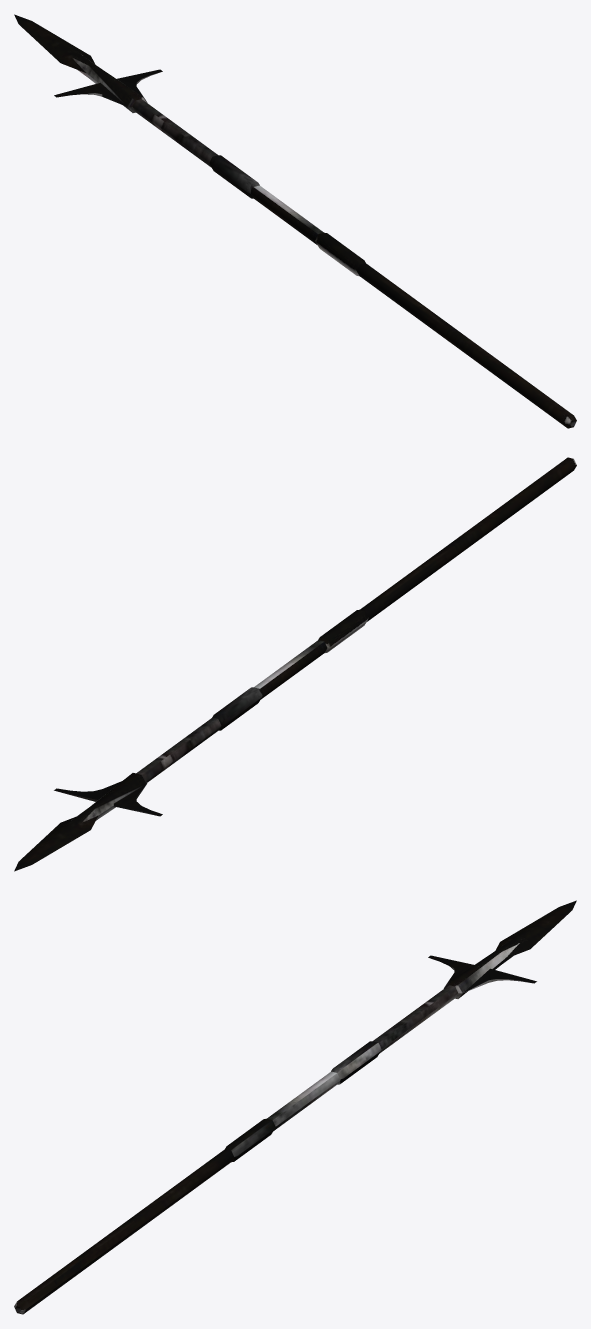
3 views of the same model, one above another, from view 1: azimuth 30°, elevation 25°; view 2: azimuth 150°, elevation 25°; view 3: azimuth 330°, elevation 25° (orthographic).
Parts seen in each view (by area): view 1: mesh_0; view 2: mesh_0; view 3: mesh_0.
Part boxes in pixels (bbox=[...]): mesh_0: bbox=[14, 14, 576, 428]; mesh_0: bbox=[14, 457, 576, 871]; mesh_0: bbox=[14, 900, 576, 1314].
Size of the model in its own units: 10.31 by 1.32 by 93.74.
Materials: 1 (1 with a texture image).
